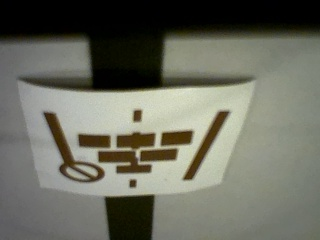Clearing_Zone: (41, 109, 233, 190)
